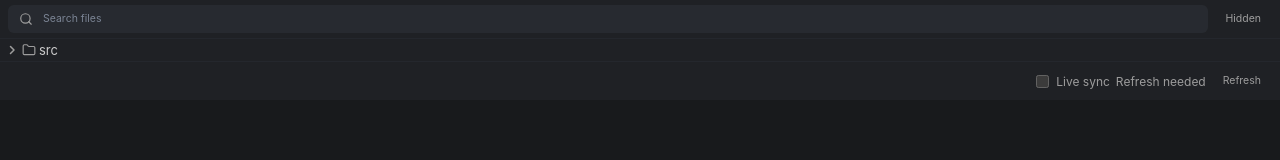
FileExplorer › disables unavailable live sync while retaining manual recovery
Expected: the checkbox named "Live sync unavailable" is disabled, [1036,74,1049,88]
Expected: the text "Refresh needed" is shown, [1116,74,1206,88]
Click the button "Refresh". click: (1242, 81)
box: [1212,67,1272,95]
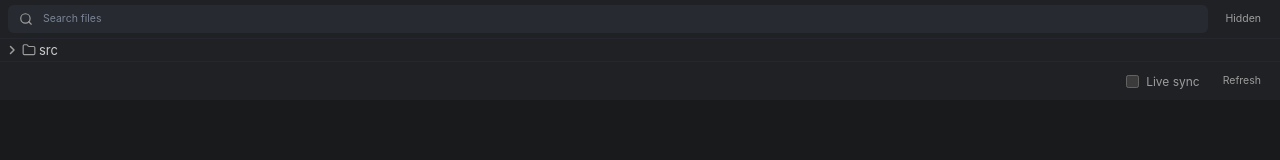
Expected: the checkbox named "Live sync unavailable" is not checked, [1126,74,1139,88]
Now the text "Refresh needed" is gone
